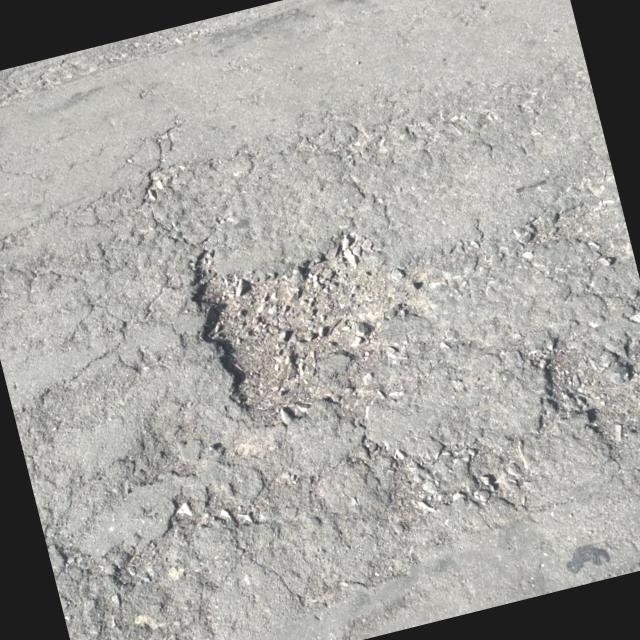Lubang: (196, 232, 417, 423), (526, 332, 632, 441)
